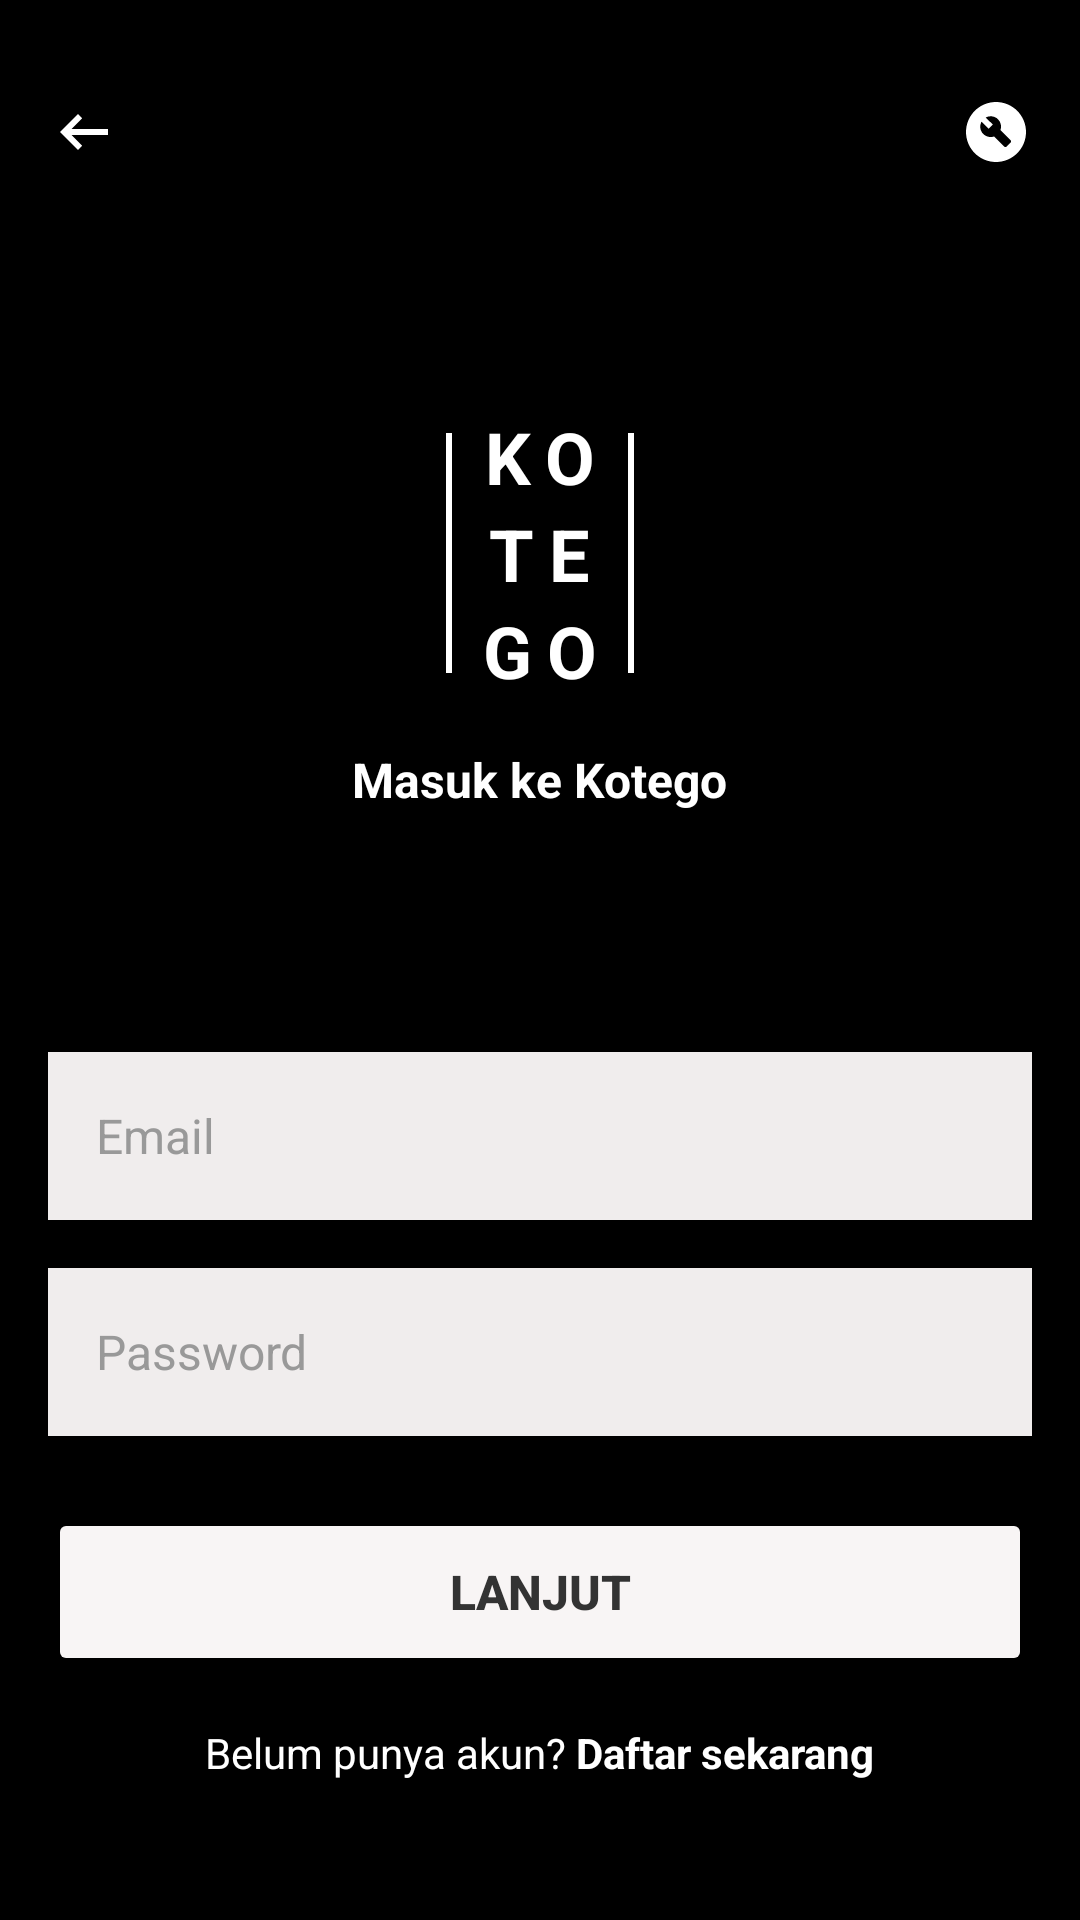

Screen size 1080px x 1920px. Icon name, then its center in pixels as (x,y):
Back: (84,132)
Settings: (996,132)
